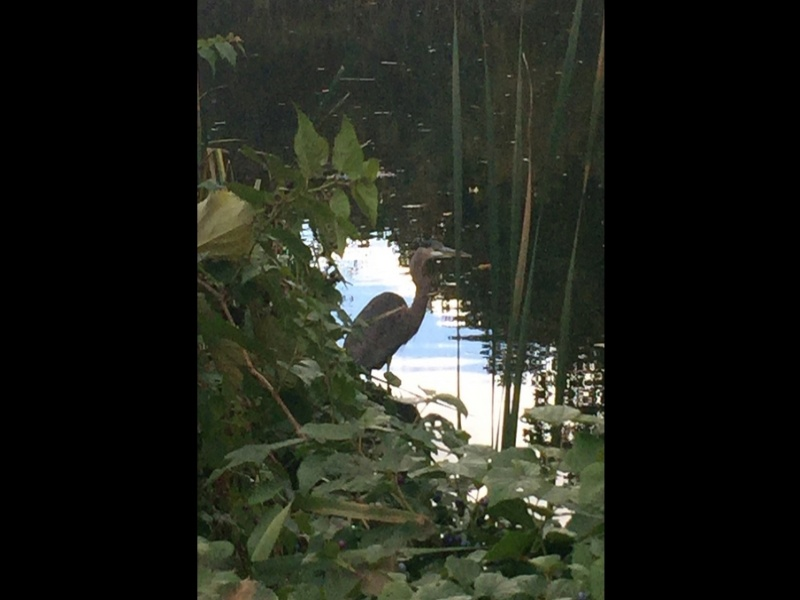heron: (345, 234, 473, 382)
